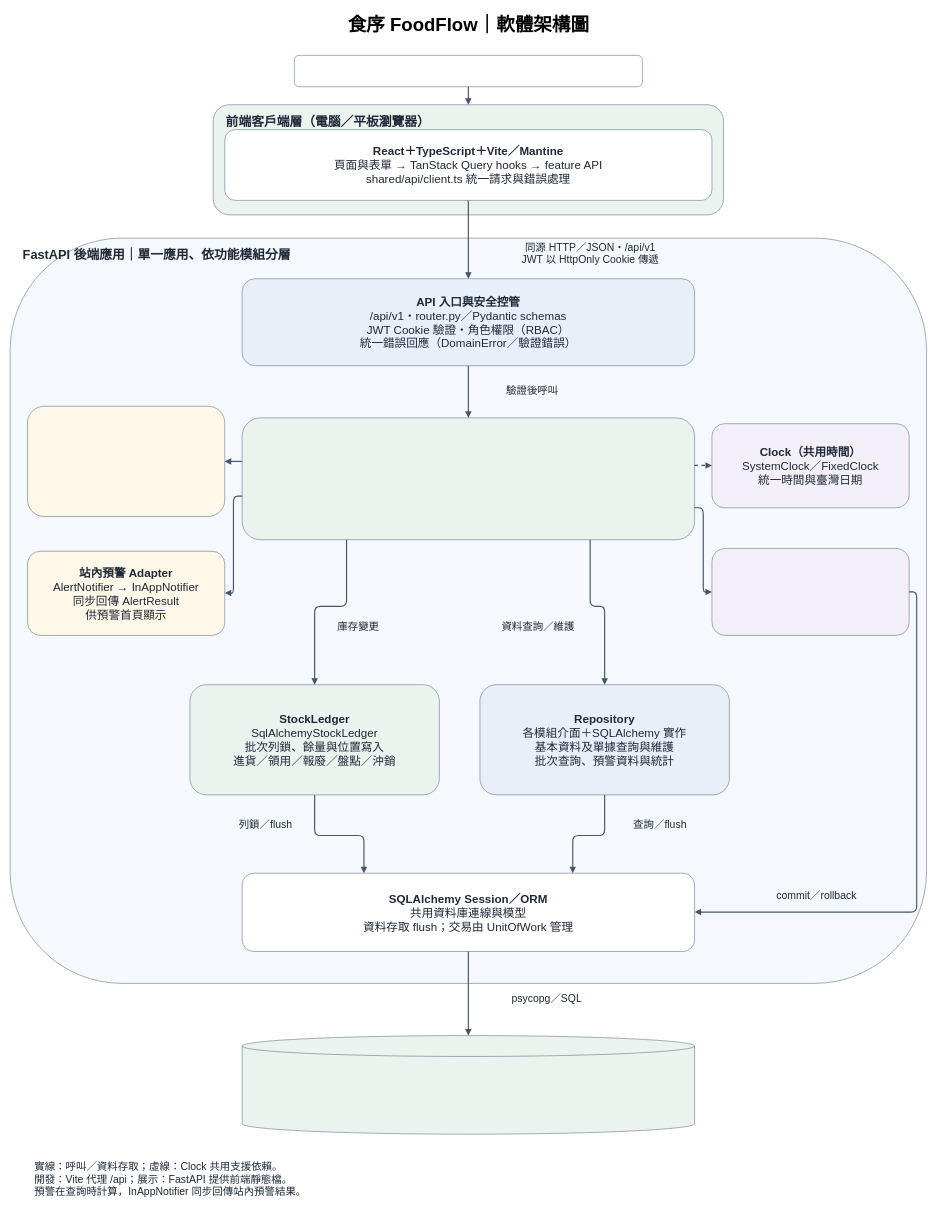
Some shapes in this 937 by 1231 pixel diagram are drawn without their labels. The centre of each missing label's shape, as x and y in pixels:
"PostgreSQL 17 12 張表・PK／FK／唯一及檢查限制 批次、單據、庫存異動、位置及報廢紀錄 Docker Compose＋持久化 Volume" belongs at [468,1084].
"Service 商業邏輯層 帳號權限｜基本資料與儲存位置 進貨與批次｜批次庫存查詢 食材領用｜效期與低庫存預警 報廢與盤點｜異動紀錄與統計" belongs at [468,478].
"UnitOfWork（交易控制） SqlAlchemyUnitOfWork 整筆成功提交、例外回滾" belongs at [810,591].
"領域規則與策略 FefoStrategy／ManualStrategy AlertRuleFactory／AlertRule 共用效期與低庫存判定" belongs at [126,461].
"餐廳操作人員：管理者／一般員工" belongs at [468,71].
